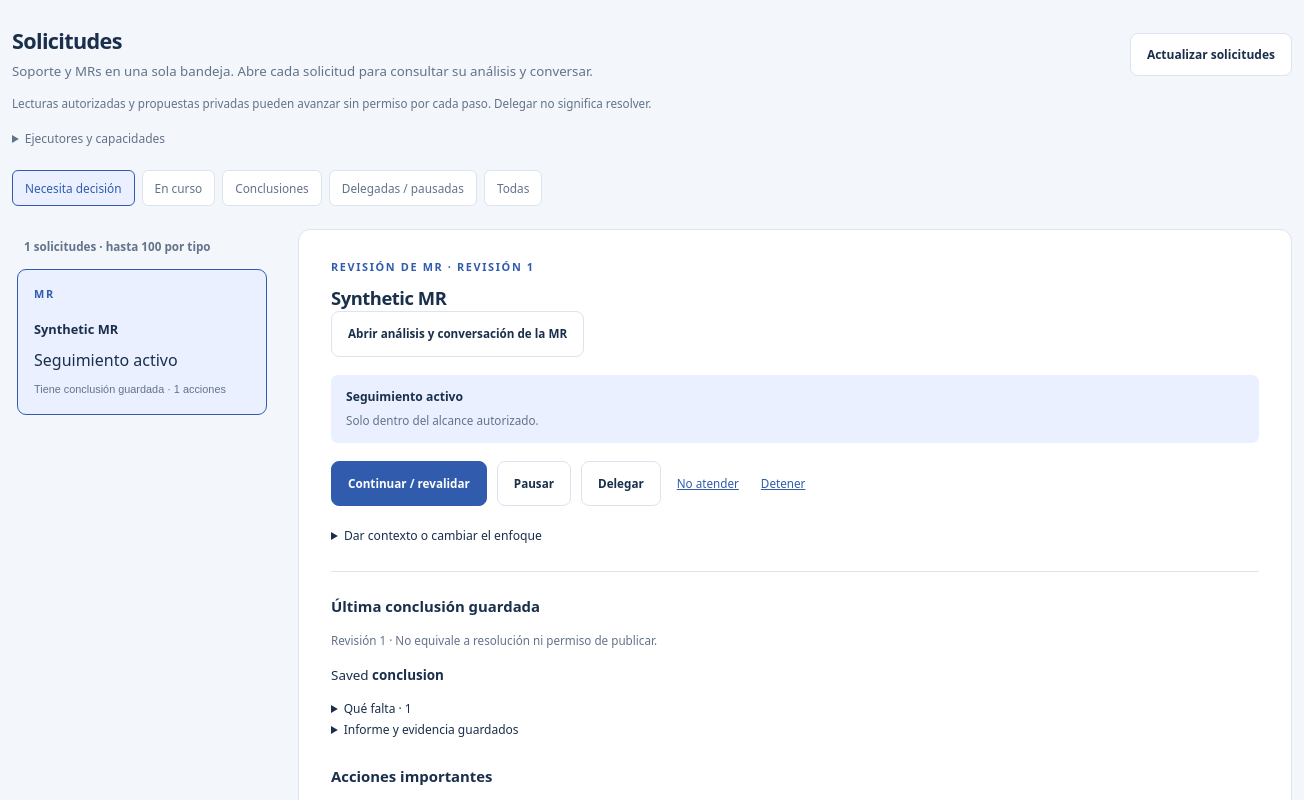
Scenario: Control humano común sin arrancar procesos › separa disponibilidad y pausa y deja las capacidades inexistentes bloqueadas
Check: the heading "Synthetic MR" is shown, box 331,284 -> 446,310
Check: the button "Delegated MR" is not shown
Click the heading "Ejecutores y capacidades": x=95, y=139 25,130 -> 165,147
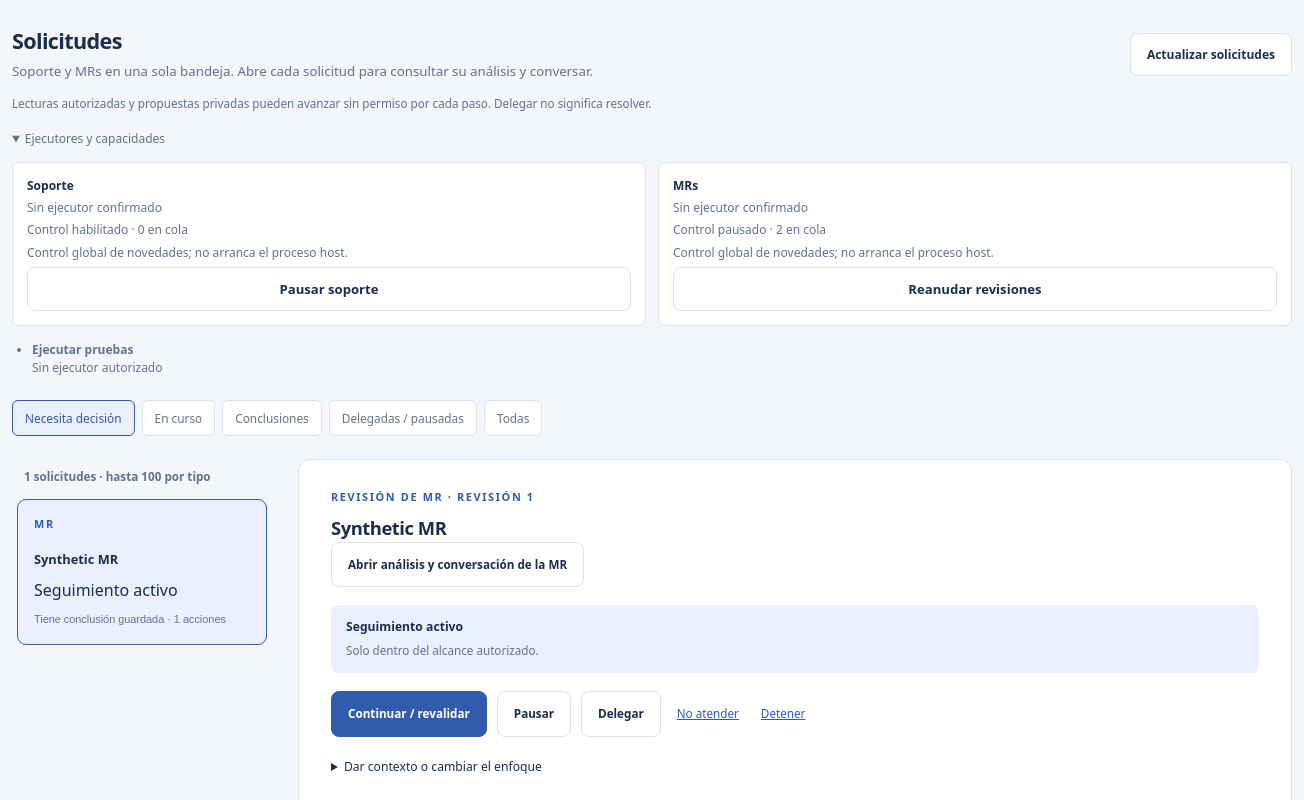
Check: the text "Sin ejecutor confirmado" is shown 2 times, box 27,199 -> 162,216; 673,199 -> 808,216
Check: the text "Control pausado · 2 en cola" is shown, box 673,221 -> 826,238
Check: the text "Sin ejecutor autorizado" is shown, box 32,359 -> 162,376
Click the button "Delegadas / pausadas": x=403, y=418 329,400 -> 477,436
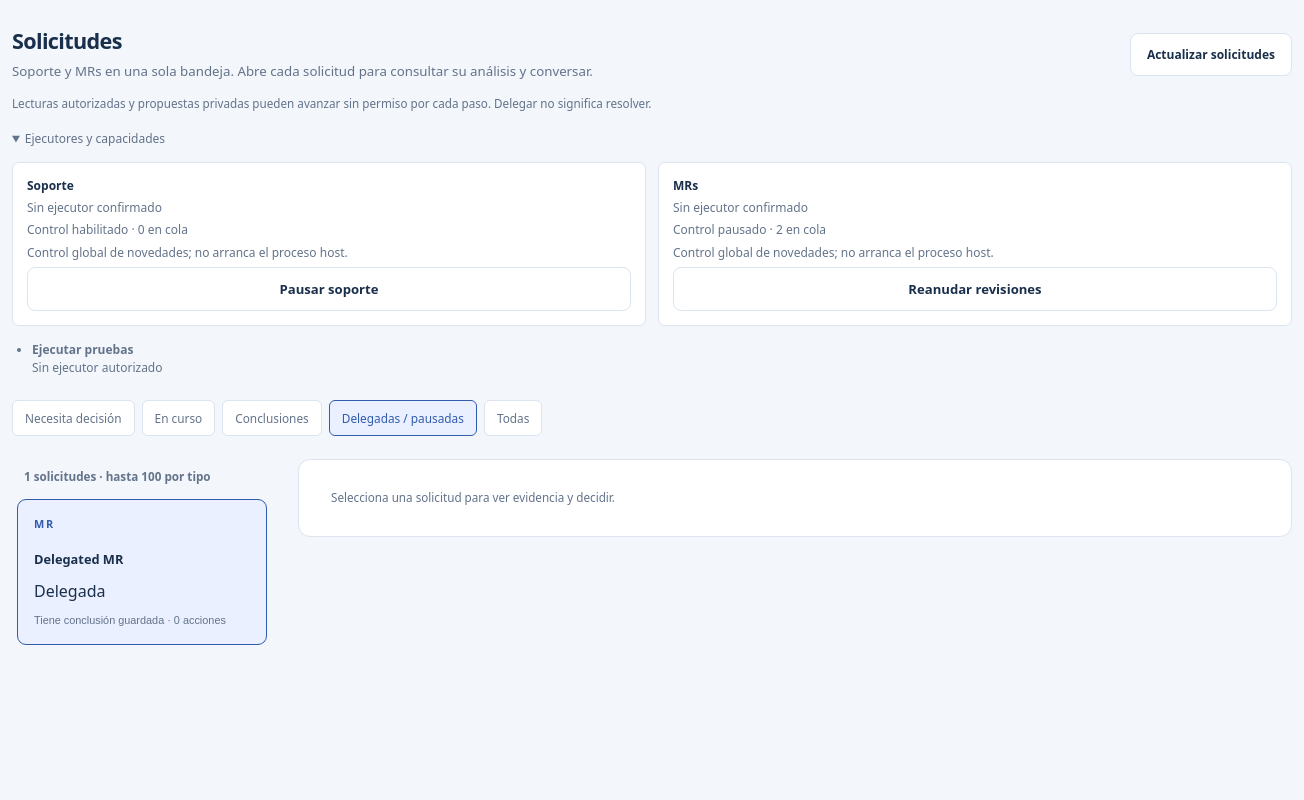
Check: the button "Delegated MR" is shown, box 17,500 -> 267,645
